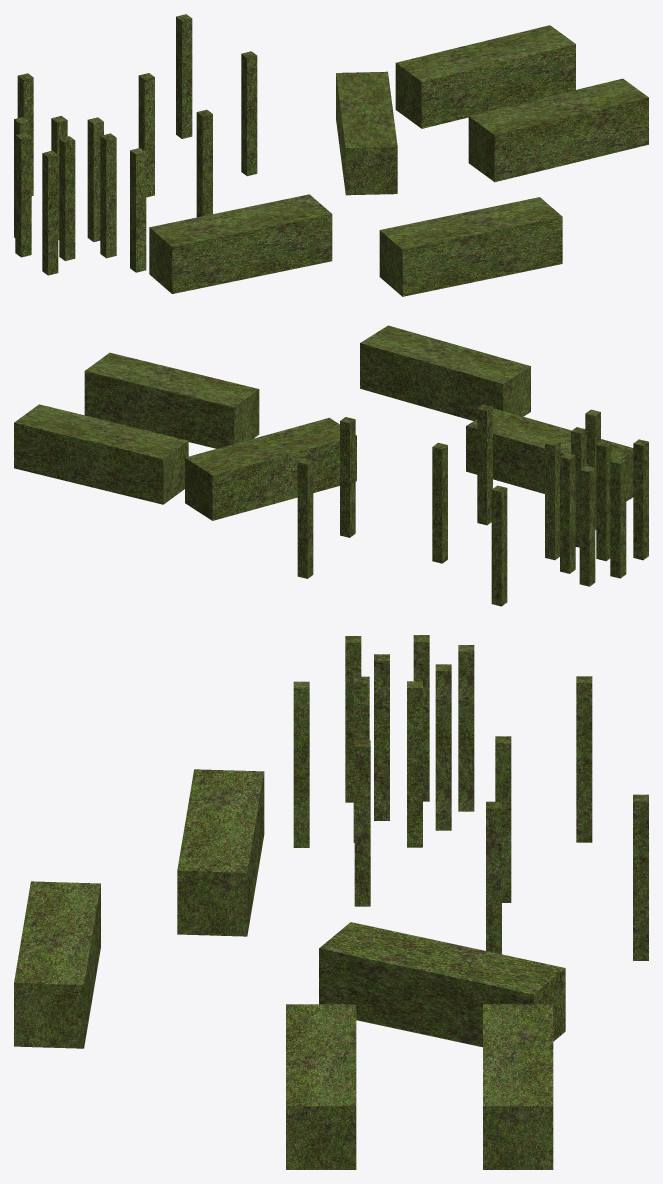
Rendered from mapone.dae.
3 renders of one model, top to bottom at view 1: azimuth 30°, elevation 25°; view 2: azimuth 150°, elevation 25°; view 3: azimuth 270°, elevation 25°, orthographic. The views are drawn at different scales.
Parts seen in each view (by area): view 1: Cube.009-col; view 2: Cube.009-col; view 3: Cube.009-col.
Part boxes in pixels (left/top/right/bottom): Cube.009-col: left=14, top=14, right=648, bottom=296; Cube.009-col: left=14, top=325, right=648, bottom=606; Cube.009-col: left=14, top=635, right=648, bottom=1169.
Size of what is drawn, in the model's own units: 25.78 by 18.07 by 5.01.
Materials: 1 (1 with a texture image).
